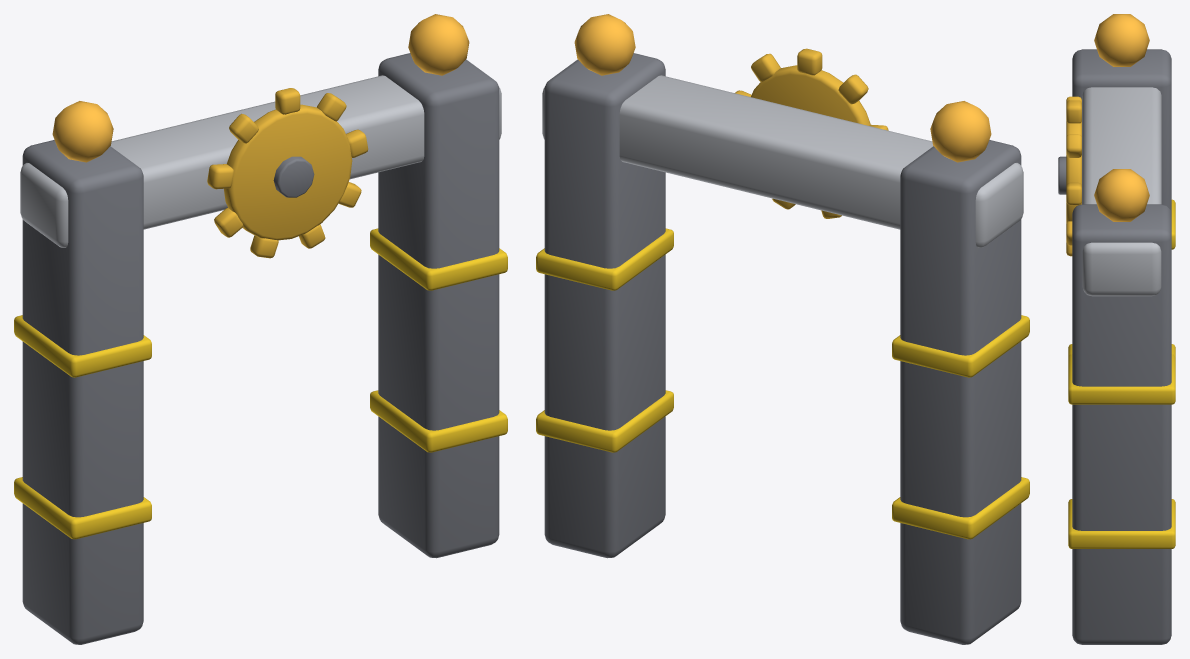
File: WallGate.glb
3 views of the same model, side by side, from view 1: azimuth 30°, elevation 25°; view 2: azimuth 150°, elevation 25°; view 3: azimuth 270°, elevation 25° (orthographic). The views are drawn at different scales.
Parts seen in each view (by area): view 1: WallGate; view 2: WallGate; view 3: WallGate.
Part boxes in pixels (left/top/right/bottom): WallGate: left=14, top=14, right=507, bottom=644; WallGate: left=536, top=14, right=1029, bottom=644; WallGate: left=1058, top=14, right=1175, bottom=644.
Size of the model in its own units: 2.3 by 2.56 by 0.59.
